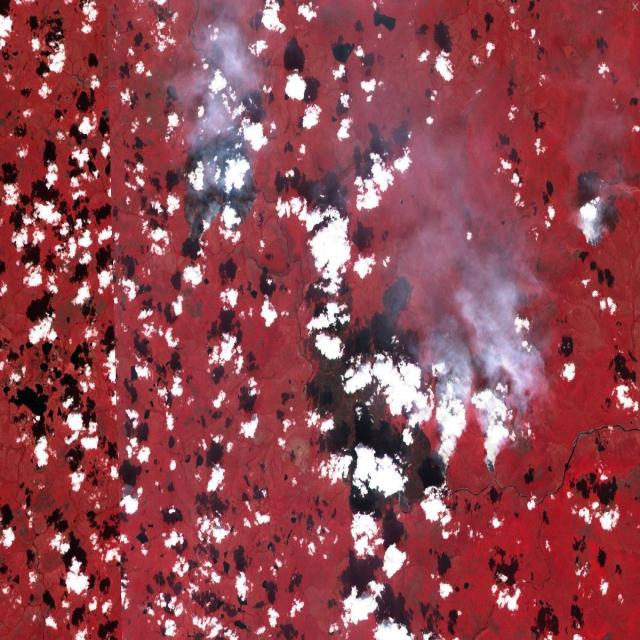fire: (425, 401, 527, 509), (172, 143, 261, 238), (574, 201, 624, 258)
